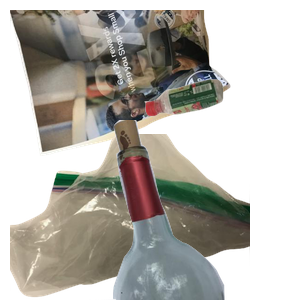glass: (89, 120, 300, 300)
paper: (10, 10, 233, 158)
plastic: (142, 77, 300, 186)
trash: (10, 134, 250, 300)
